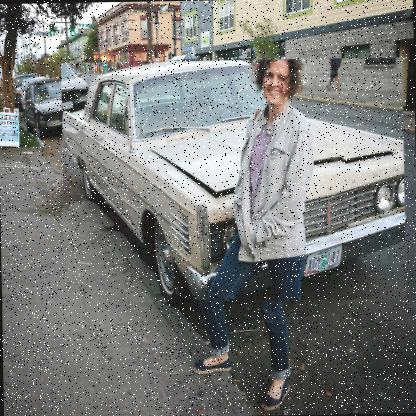Car: (60, 57, 406, 304), (22, 77, 90, 137), (16, 74, 52, 104), (12, 70, 38, 90)
